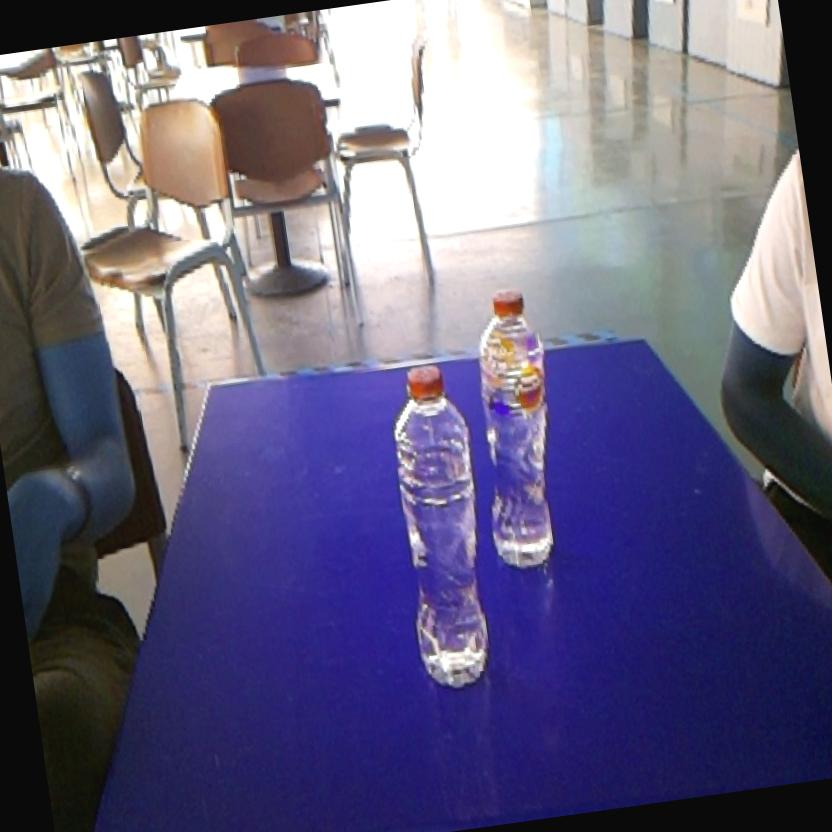good: (459, 277, 580, 578)
no_label: (369, 348, 512, 704)
